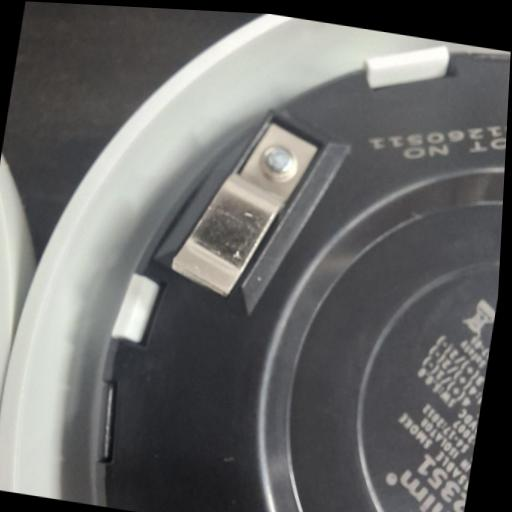yaysiz: (164, 106, 324, 312)
